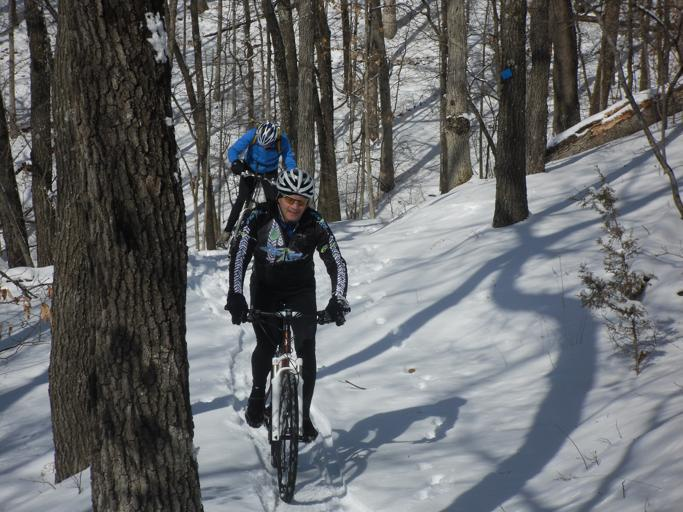non-vehicle: (223, 302, 351, 503), (216, 171, 277, 251)
